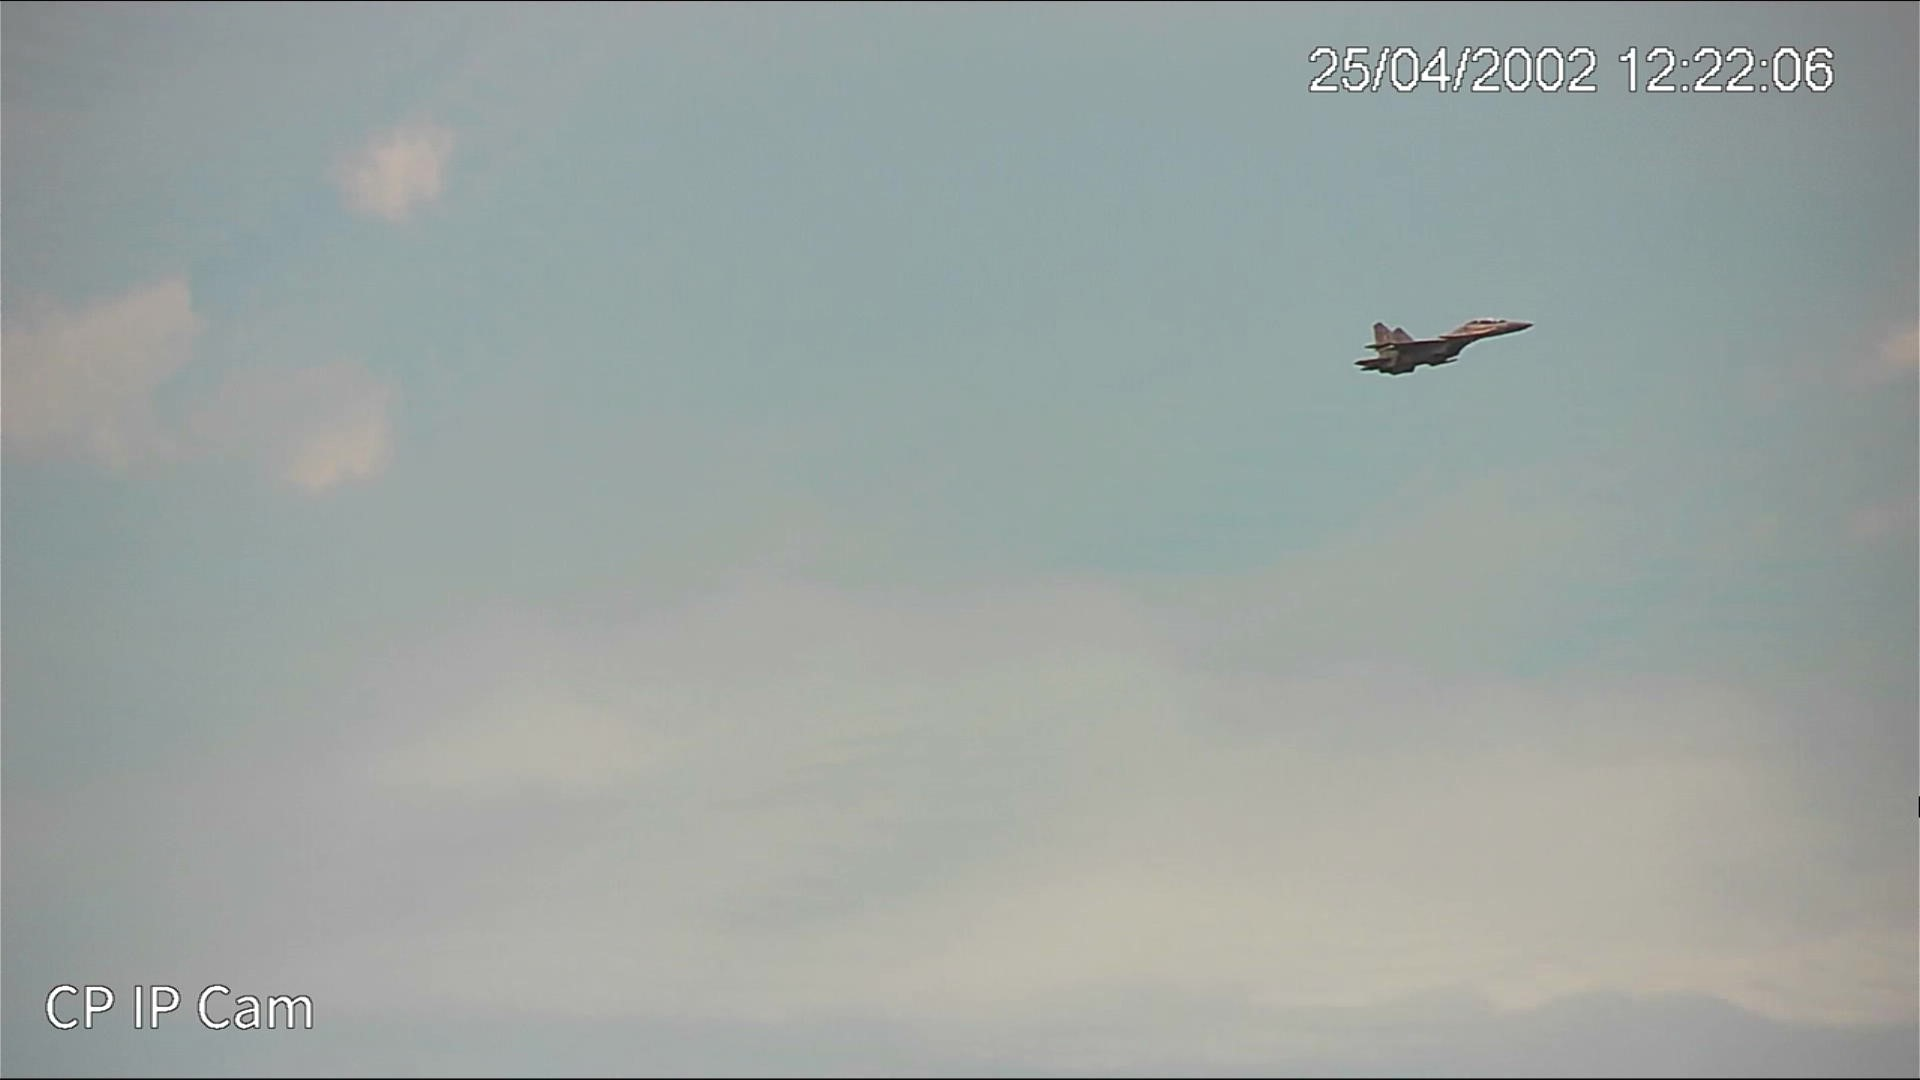SU_30: (1360, 311, 1528, 382)
